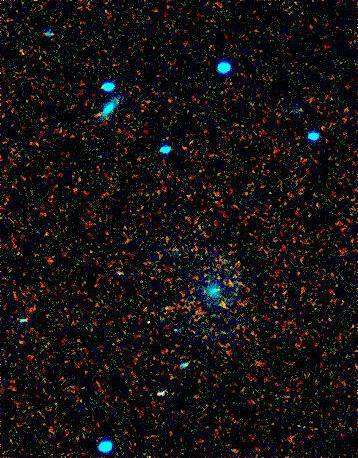star: (204, 267, 234, 297)
